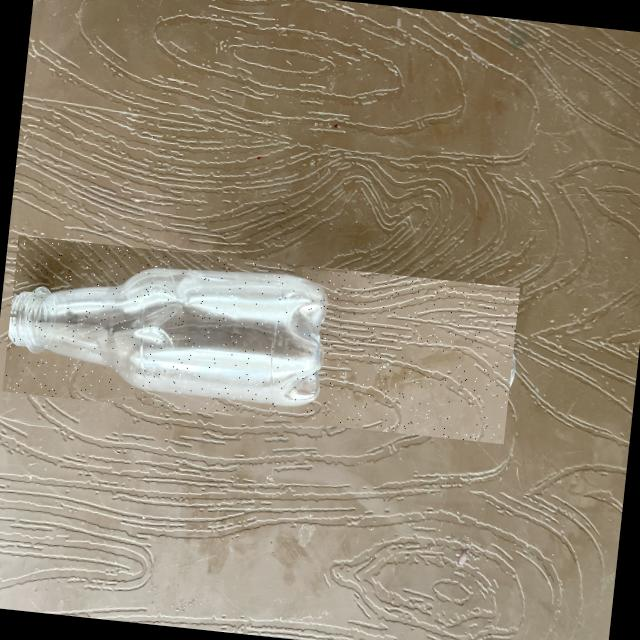PET_ClearBottle: (1, 235, 518, 444)
